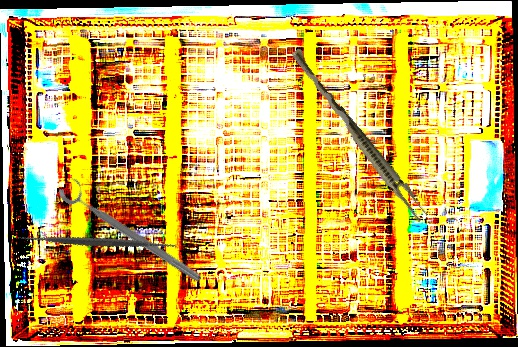Fixation Ring: (55, 173, 210, 287)
Spatula Surgical: (11, 156, 183, 327)
Tissue Forceps: (284, 47, 433, 224)
